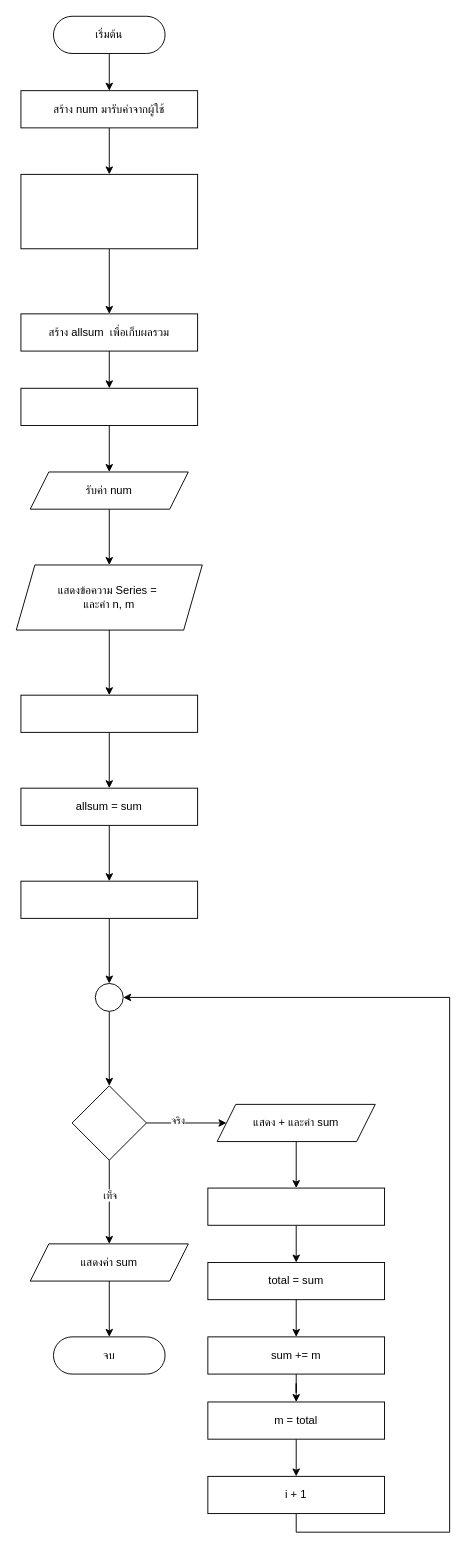
Some shapes in this 473 by 1556 pixel diagram are drawn without their labels. The shapes that lost their labels are listed below. From the top down, each one's centre as x and y in pixels, then its label:
At (109,211): "สร้าง n = 1, m = 1, sum = 0, total เพื่อเก็บค่าแลำคำนวณ".
At (109,406): "สร้าง i ใช้วนลูป".
At (109,713): "sum = n + m".
At (109,899): "i = 2".
At (108,1122): "i < num".
At (296,1206): "allsum += sum".
